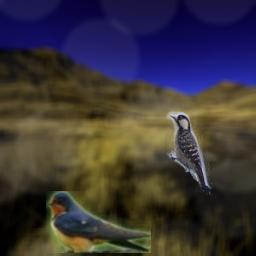Swallow: (46, 191, 151, 253)
Woodpecker: (166, 109, 213, 197)
